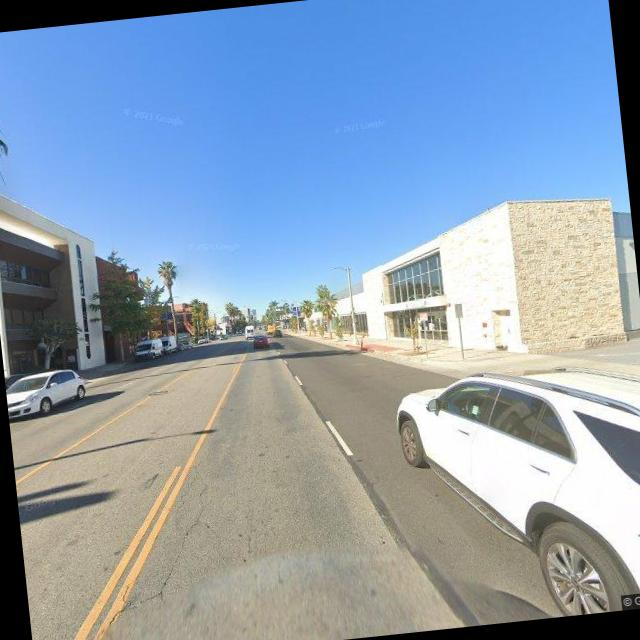pothole: (131, 467, 216, 604), (140, 468, 162, 487)
